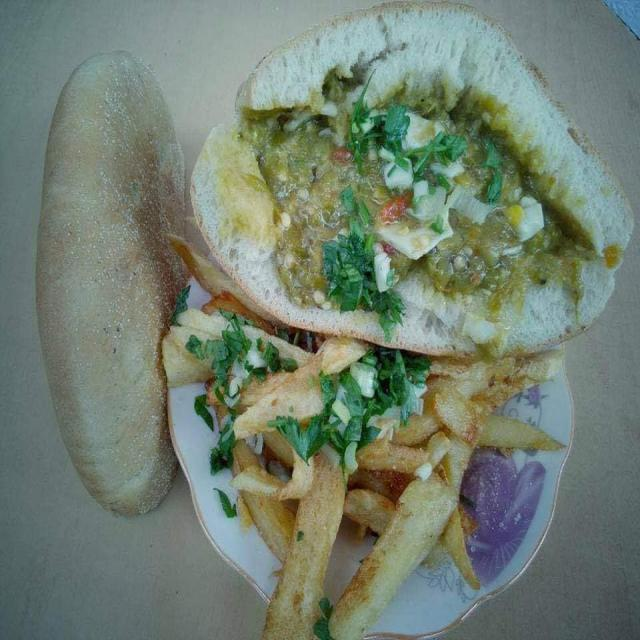Sandwitch tounsi: (190, 0, 638, 333)
